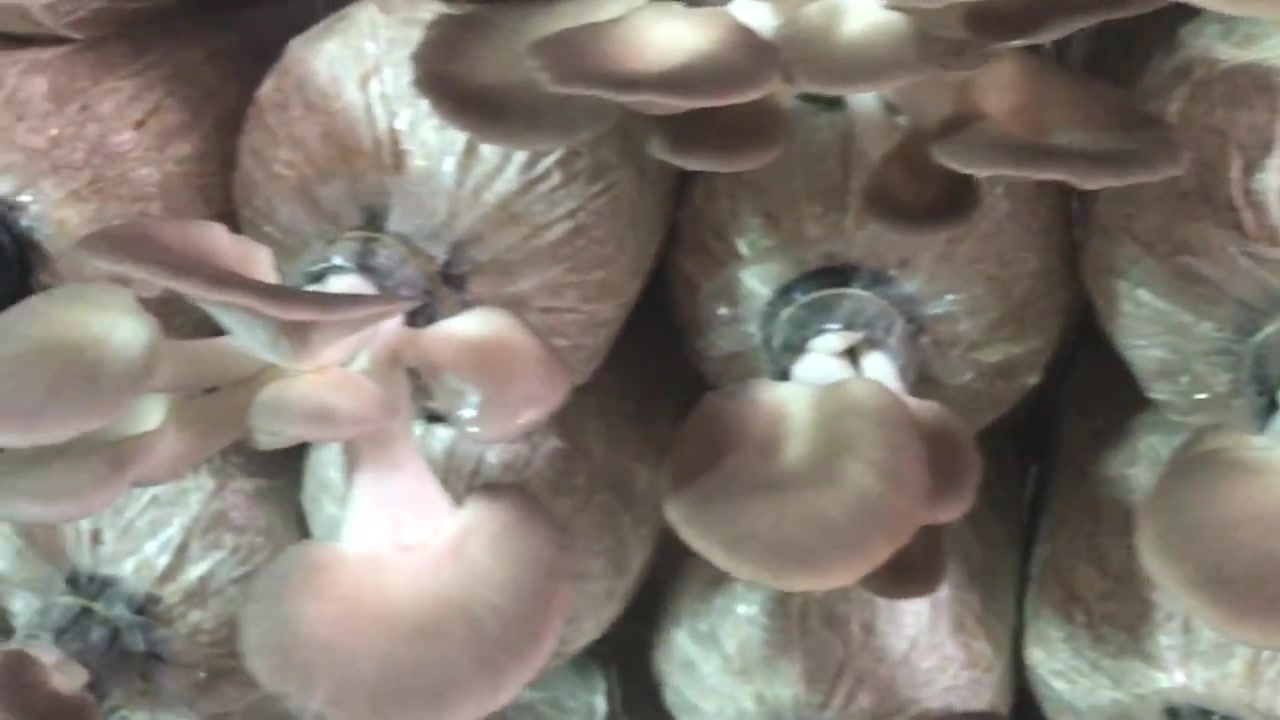nam: (4, 223, 578, 720), (412, 1, 1200, 242), (656, 264, 984, 609), (1132, 399, 1280, 647)
